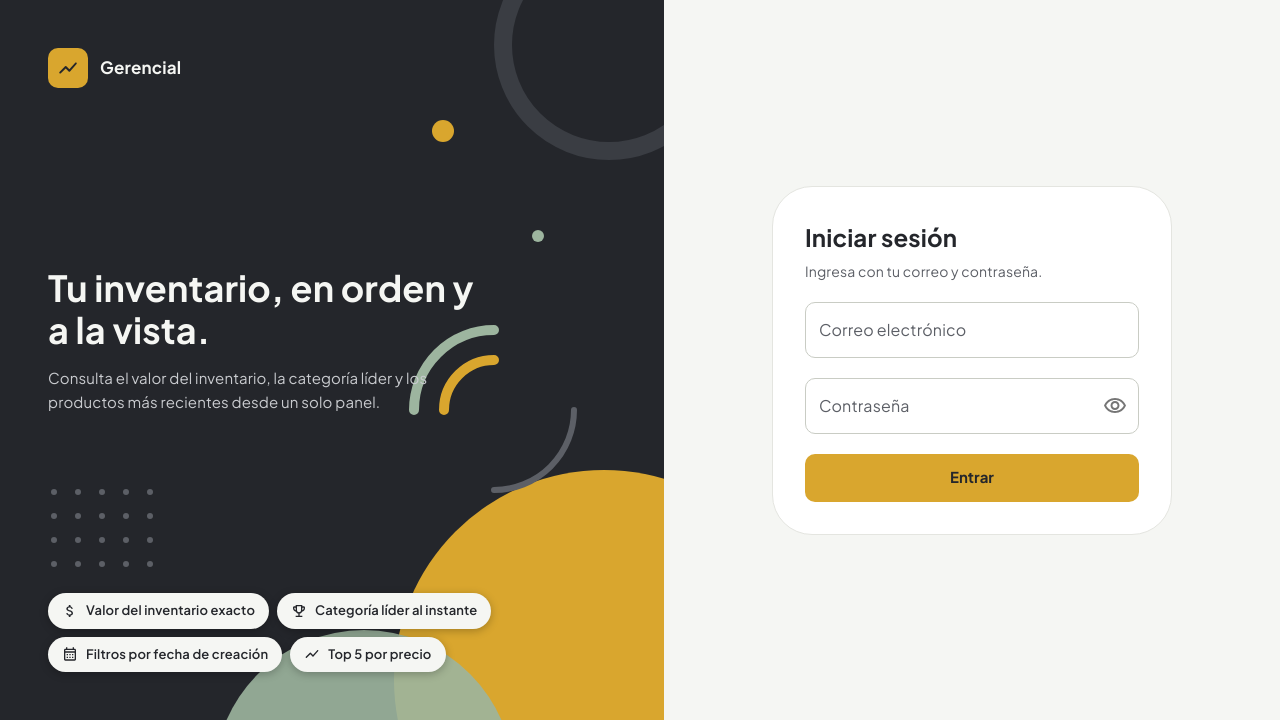
Test: auth routes › sends an anonymous user to the login and back to the page after signing in
Expected: the heading "Iniciar sesión" is shown, x1=805 y1=222 x2=957 y2=252
In the field labelled "Correo electrónico": (972, 330) x1=805 y1=302 x2=1139 y2=358, type "ana@example.com"
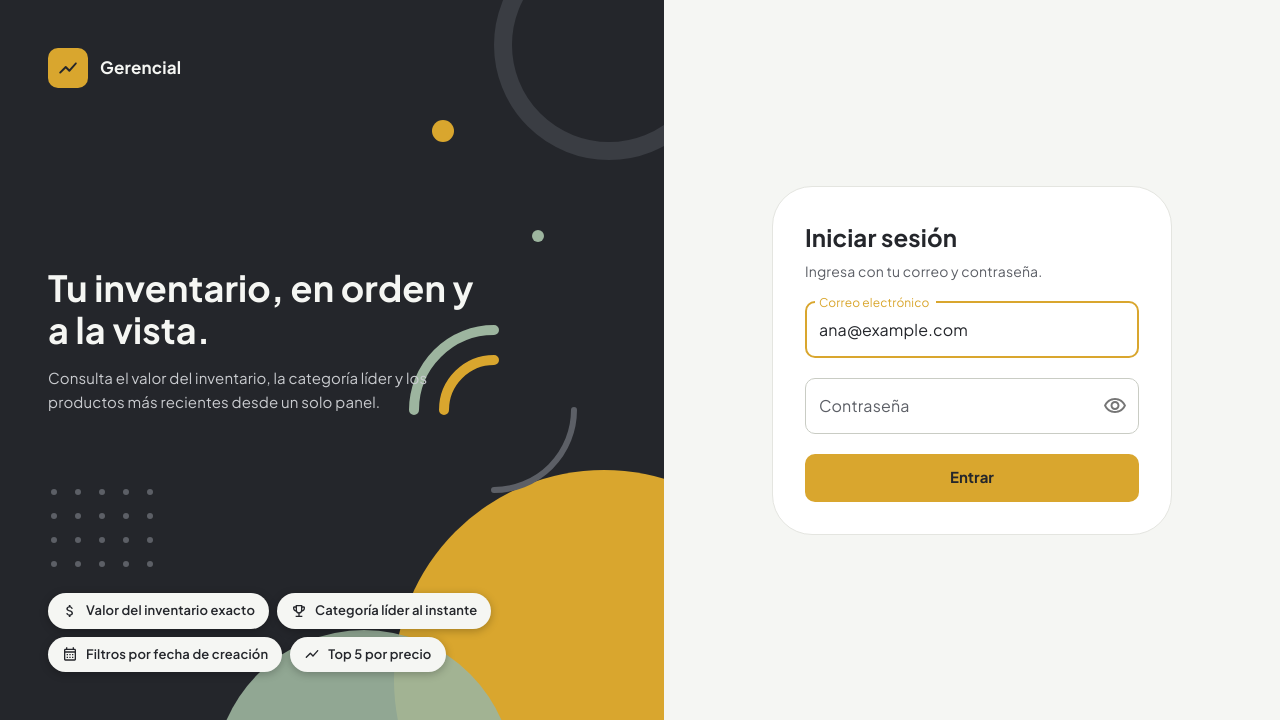
In the password field labelled "Contraseña": (945, 406) x1=805 y1=378 x2=1085 y2=434, type "secreto123"
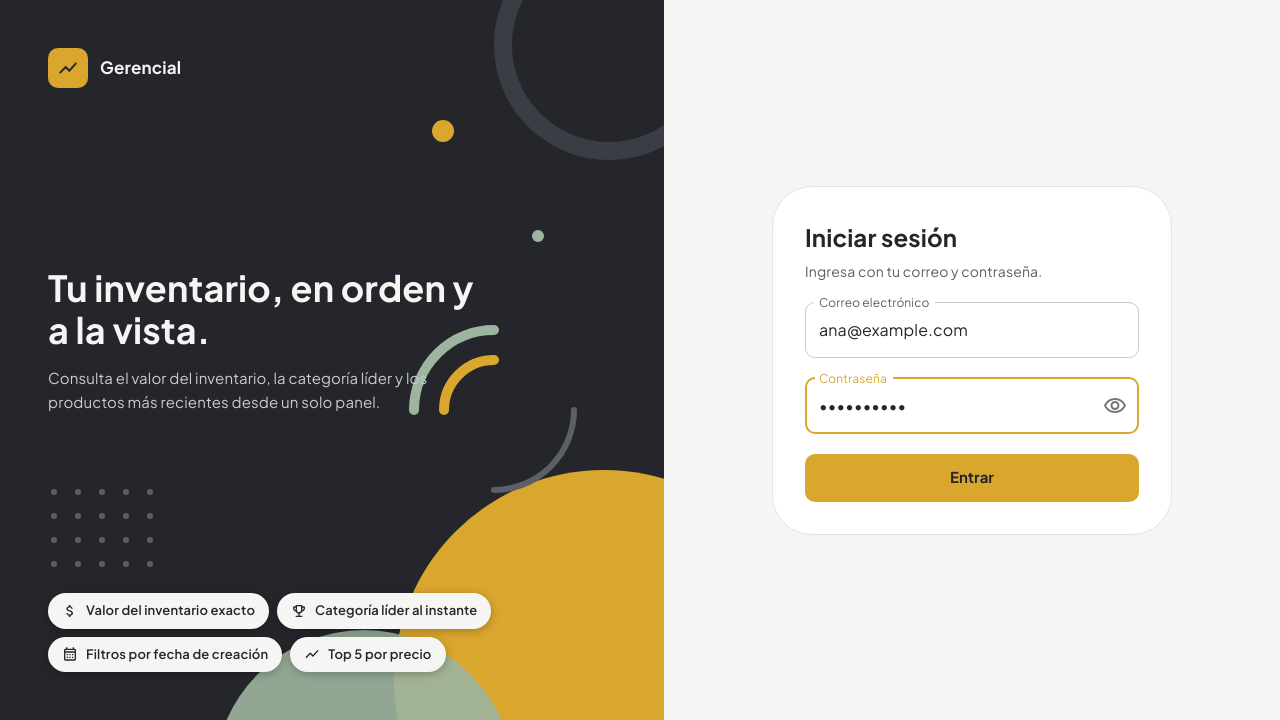
Click the button "Entrar": (972, 478) x1=805 y1=454 x2=1139 y2=502
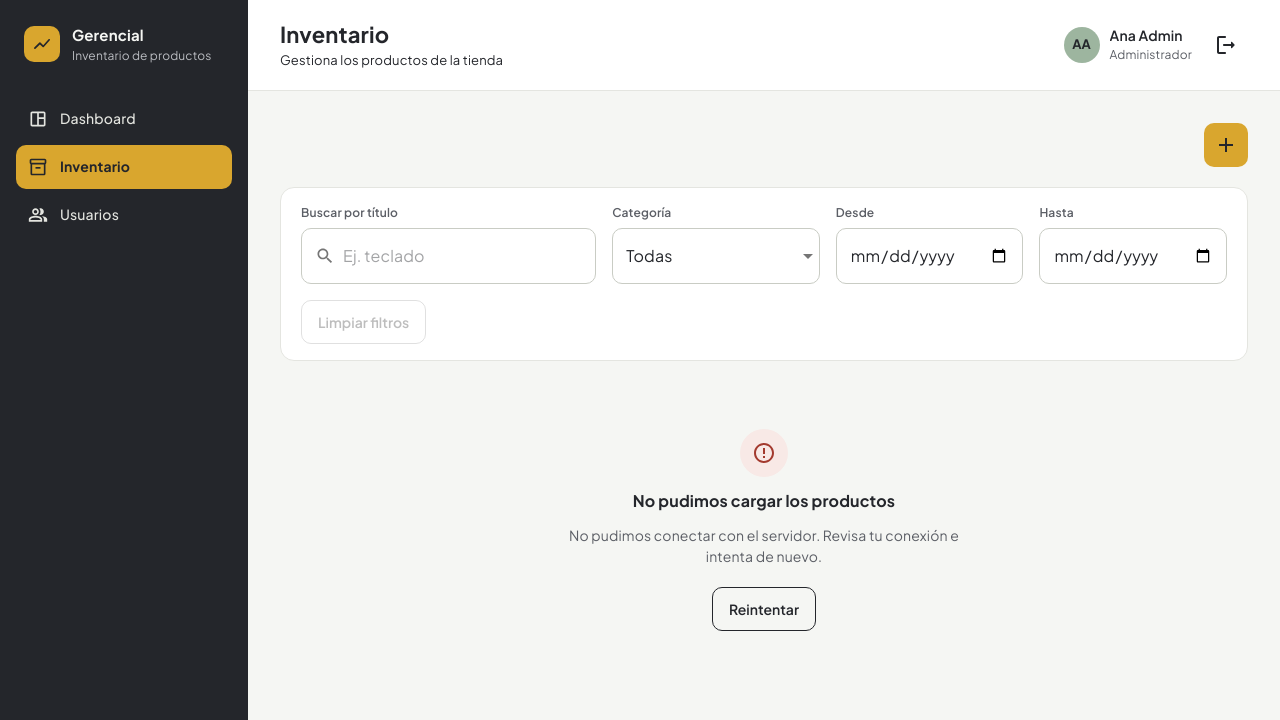
Now the heading "Inventario" is shown, box x1=280 y1=20 x2=389 y2=48
